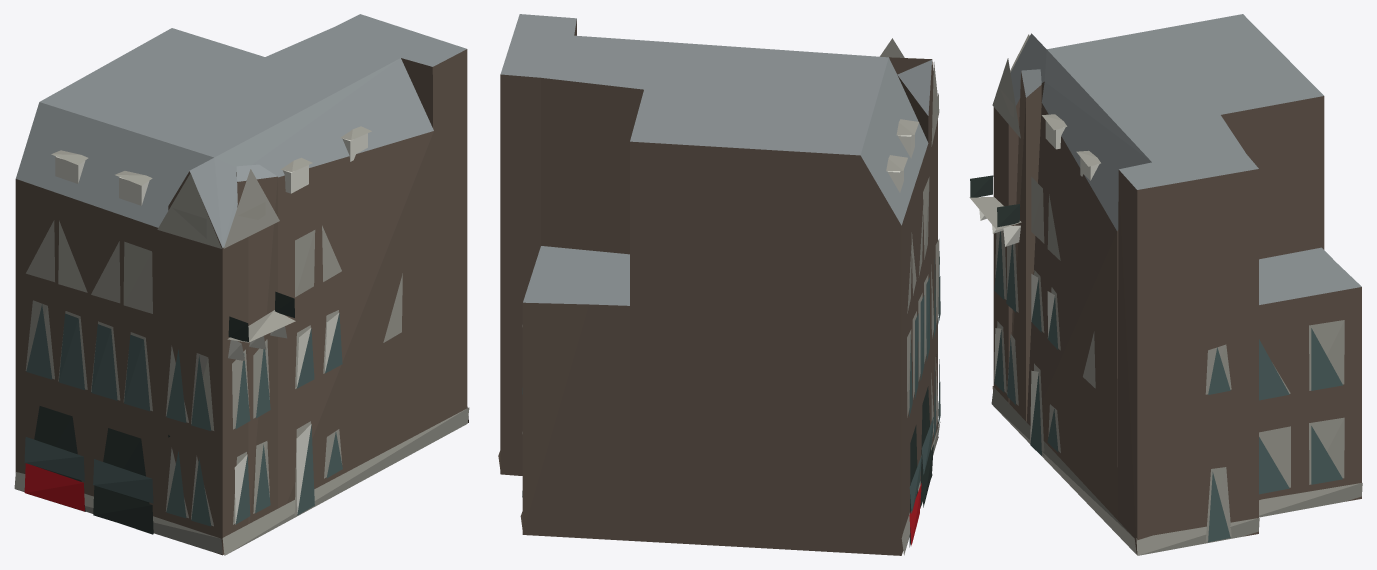
The model's file is fire-station-victor.lod2.glb.
The picture shows the model from 3 angles, left to right: view 1: azimuth 30°, elevation 25°; view 2: azimuth 150°, elevation 25°; view 3: azimuth 270°, elevation 25°; orthographic projection. The views are drawn at different scales.
Visible parts, largest first — view 1: lod2; view 2: lod2; view 3: lod2.
Part boxes in pixels (bbox=[...]): lod2: bbox=[14, 14, 469, 555]; lod2: bbox=[498, 14, 940, 555]; lod2: bbox=[969, 14, 1362, 555].
Bounding box in the file's own units: 19.73 × 17.31 × 16.9.
